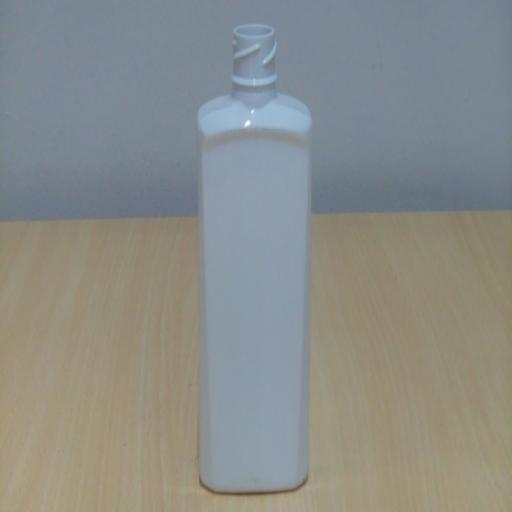Good: (187, 11, 325, 507)
